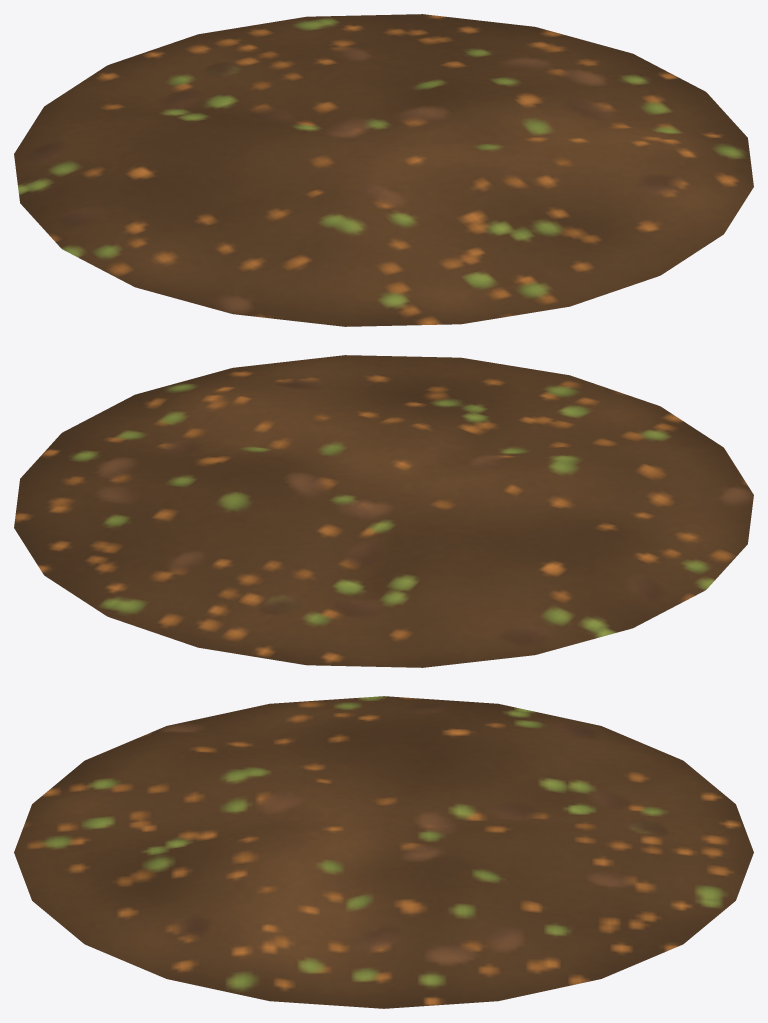
The model's file is bowl_fill_stew.glb.
3 views of the same model, one above another, from view 1: azimuth 30°, elevation 25°; view 2: azimuth 150°, elevation 25°; view 3: azimuth 270°, elevation 25° (orthographic).
Parts seen in each view (by area): view 1: BOWL_FILL_STEW; view 2: BOWL_FILL_STEW; view 3: BOWL_FILL_STEW.
Boxes of the visible parts, box(x1,y1,x2,y2) form: BOWL_FILL_STEW: box(14, 14, 753, 326); BOWL_FILL_STEW: box(14, 355, 753, 667); BOWL_FILL_STEW: box(14, 696, 753, 1008).
Size of the model in its own units: 0.197 by 0.025 by 0.197.
Materials: 1 (1 with a texture image).
